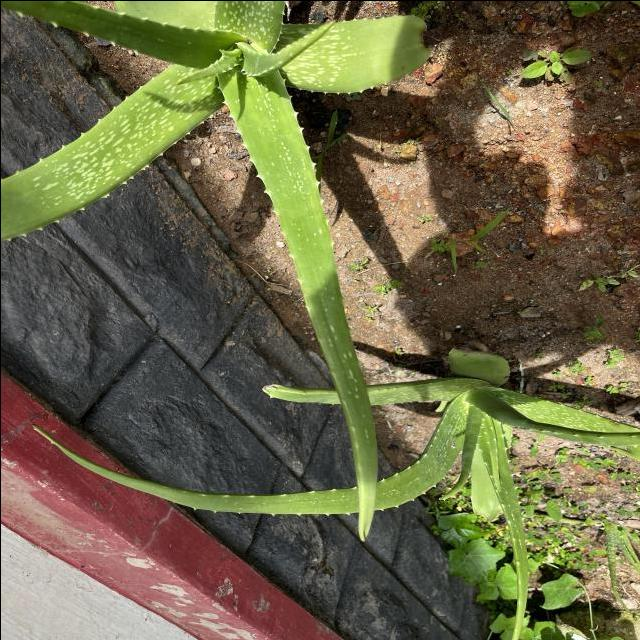Aloe vera: (220, 72, 388, 542)
